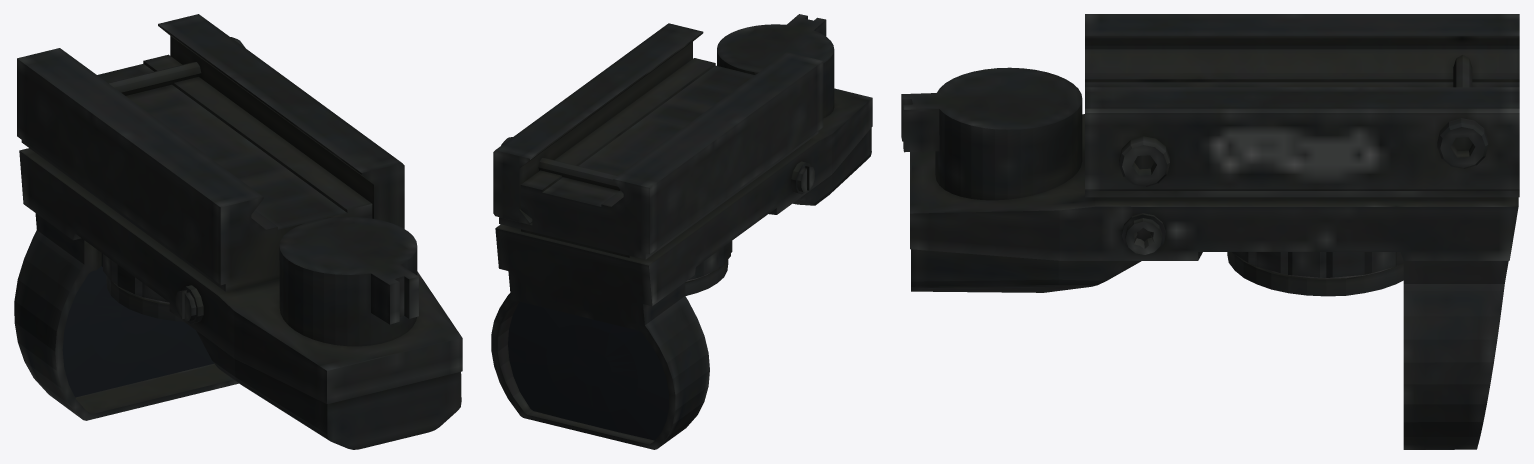
3 views of the same model, side by side, from view 1: azimuth 30°, elevation 25°; view 2: azimuth 150°, elevation 25°; view 3: azimuth 270°, elevation 25° (orthographic). The views are drawn at different scales.
Parts seen in each view (by area): view 1: TW_570fd721d2720bc5458b4596_mode1_PZ_Import; view 2: TW_570fd721d2720bc5458b4596_mode1_PZ_Import; view 3: TW_570fd721d2720bc5458b4596_mode1_PZ_Import.
Boxes of the visible parts, x1,y1,x2,y2 form: TW_570fd721d2720bc5458b4596_mode1_PZ_Import: [14, 14, 462, 449]; TW_570fd721d2720bc5458b4596_mode1_PZ_Import: [491, 14, 872, 449]; TW_570fd721d2720bc5458b4596_mode1_PZ_Import: [901, 14, 1519, 449].
Bounding box in the file's own units: 0.0216 × 0.0502 × 0.0312.
1 material, 1 textured.
